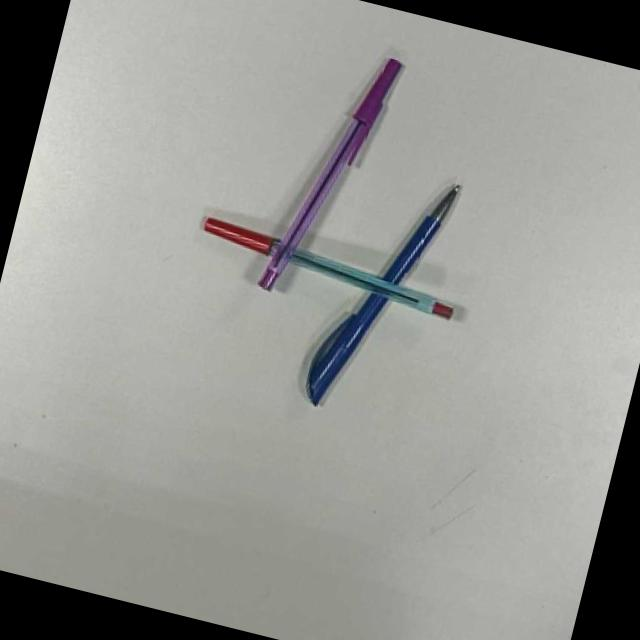caneta: (290, 172, 464, 407), (257, 55, 407, 296), (202, 214, 457, 321)
